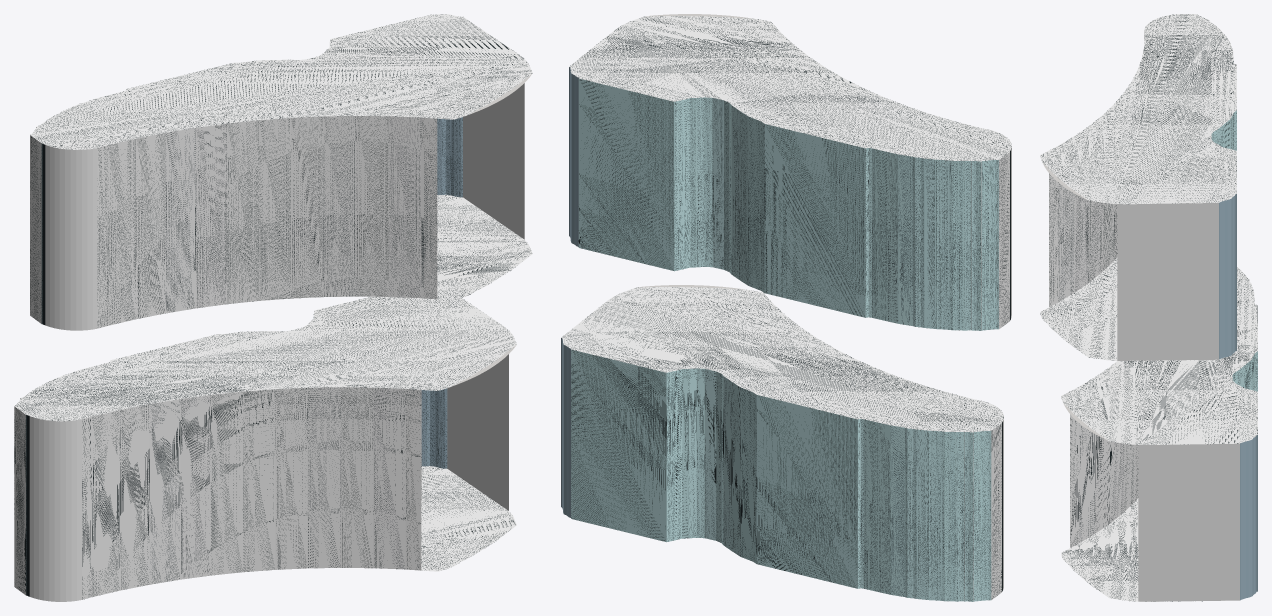
3 views of the same model, side by side, from view 1: azimuth 30°, elevation 25°; view 2: azimuth 150°, elevation 25°; view 3: azimuth 270°, elevation 25° (orthographic). The views are drawn at different scales.
Visible parts, largest first — view 1: nike basketball shoe; view 2: nike basketball shoe; view 3: nike basketball shoe.
Boxes of the visible parts, box(x1,y1,x2,y2) form: nike basketball shoe: box(14, 14, 532, 601); nike basketball shoe: box(561, 14, 1011, 601); nike basketball shoe: box(1040, 14, 1257, 601).
Size of the model in its own units: 11.28 by 10.94 by 5.41.
